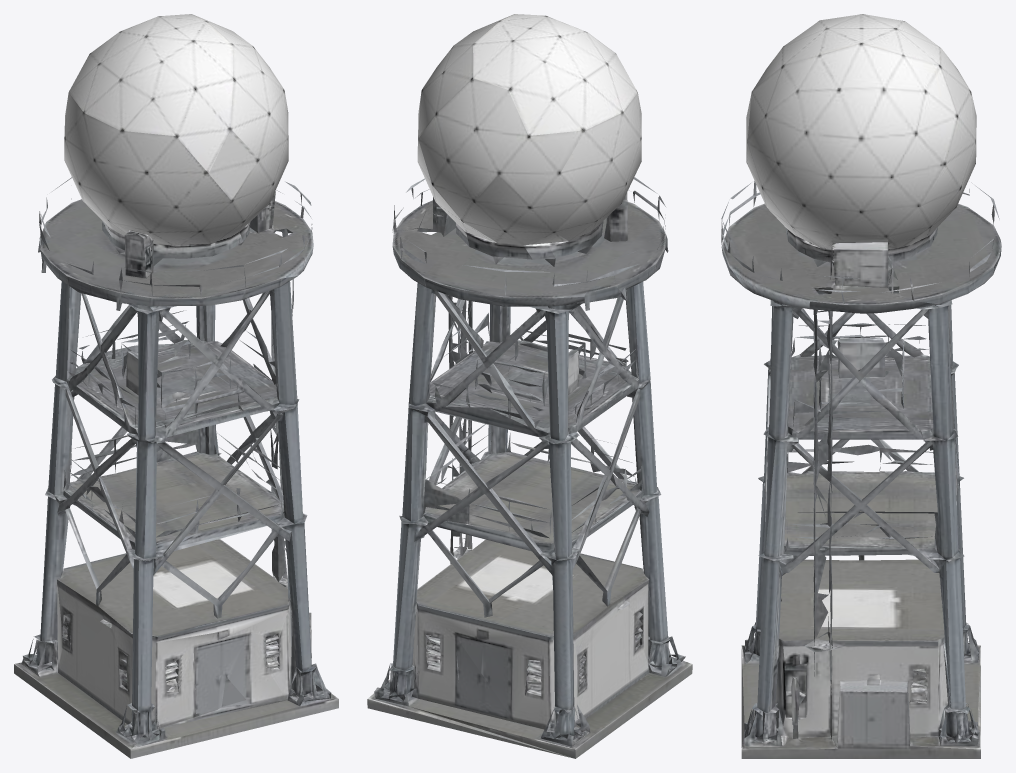
File: radar_dome.glb
3 renders of one model, left to right at view 1: azimuth 30°, elevation 25°; view 2: azimuth 150°, elevation 25°; view 3: azimuth 270°, elevation 25°, orthographic. The views are drawn at different scales.
Parts seen in each view (by area): view 1: radar_dome; view 2: radar_dome; view 3: radar_dome.
Part boxes in pixels (x1,y1,x2,y2): radar_dome: (14,14,338,758); radar_dome: (367,14,692,758); radar_dome: (721,14,1001,758).
Bounding box in the file's own units: 0.7111 × 1.9 × 0.7107.
Materials: 1 (1 with a texture image).
